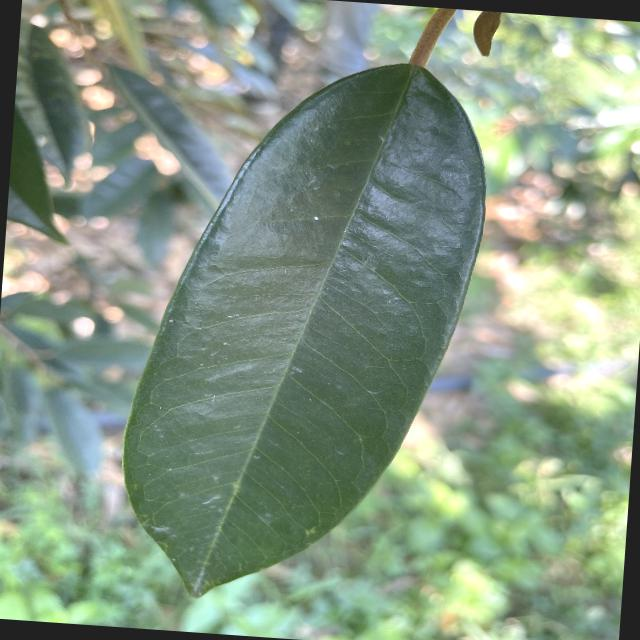No Disease: (105, 32, 501, 622)
